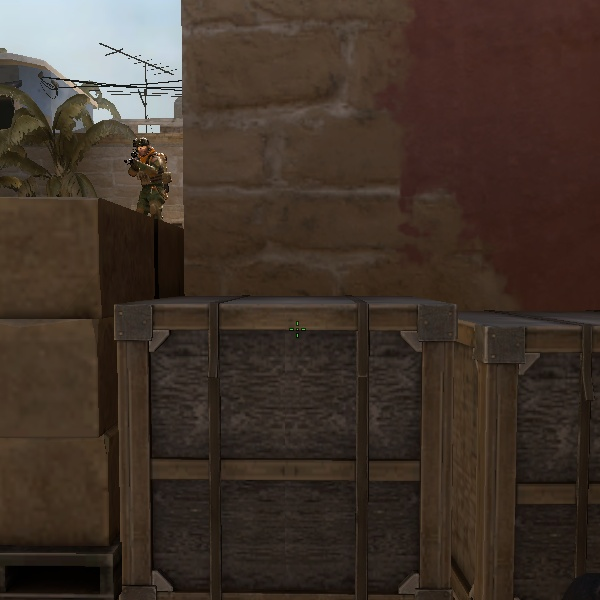t_body: (118, 134, 176, 217)
t_head: (129, 135, 159, 166)
